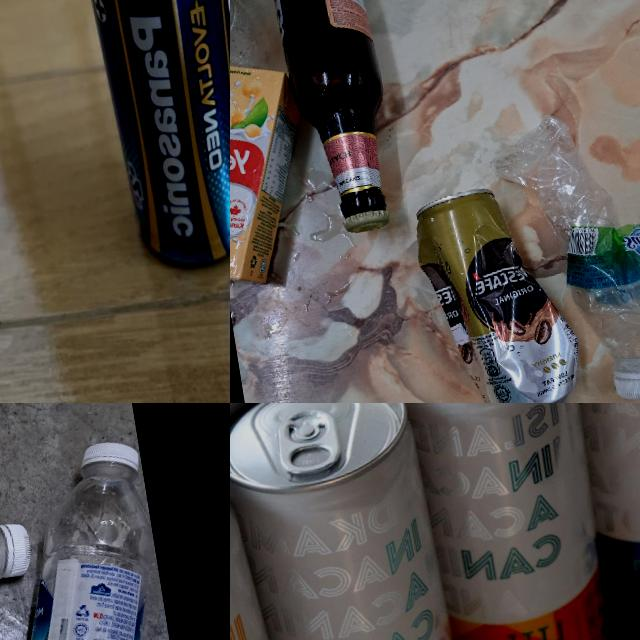aba de lata: (274, 404, 342, 480)
bateria: (77, 0, 230, 284)
caixinha: (230, 47, 314, 285)
garrafa de vidro: (256, 0, 397, 237)
garrafa plástica: (493, 98, 640, 382), (0, 467, 194, 640), (230, 0, 267, 112)
lata: (367, 403, 636, 640), (230, 403, 478, 640), (409, 170, 590, 403), (537, 403, 640, 640), (230, 430, 316, 640)
tampa plástica: (0, 504, 38, 578), (78, 438, 138, 478), (610, 363, 640, 403)
